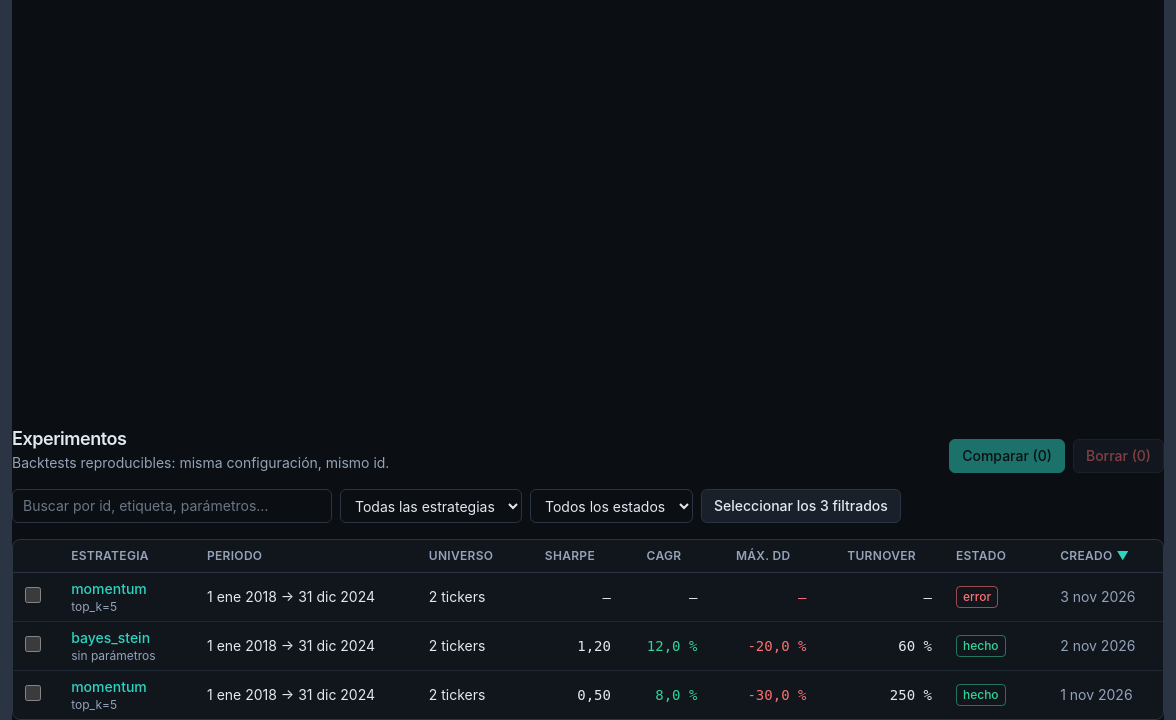
Test: Experimentos › ordena por columna al pulsar la cabecera y alterna el sentido
Later steps or results of the test are not shown.
(page scrolled)
Expected: the table named "Experimentos" is shown, [13,540,1163,719]
Click the button "Sharpe". click: (578, 556)
box: [545,548,611,564]
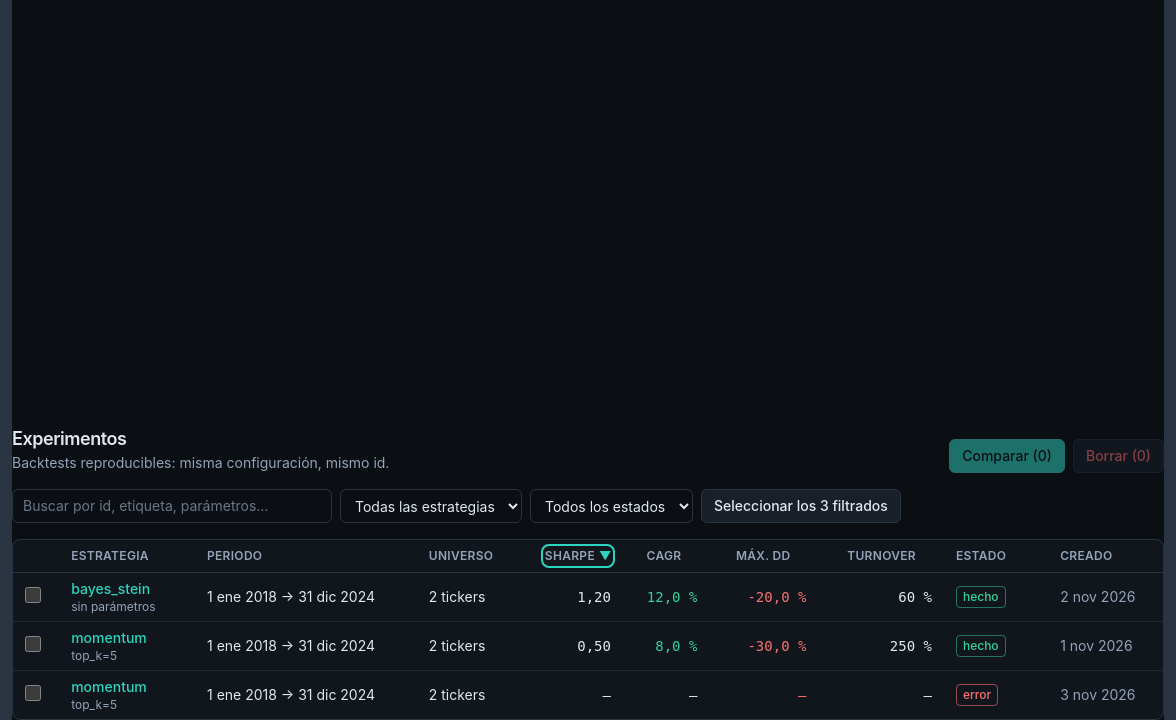
Expected: the column heading "Sharpe ▼" has attribute aria-sort="descending", [519,540,623,572]
